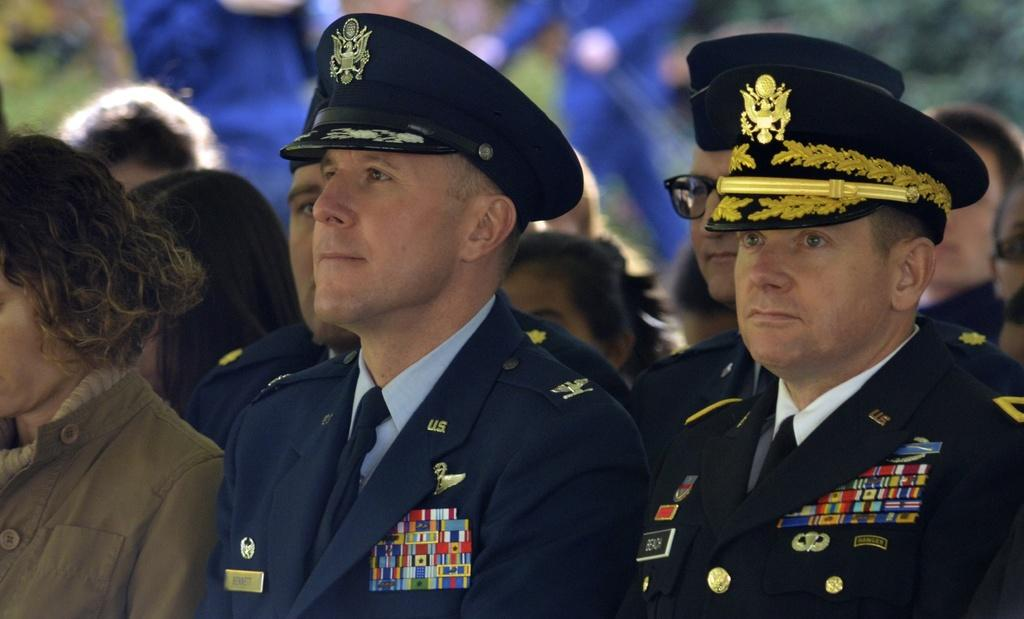Hat: (280, 11, 584, 224), (706, 67, 992, 233), (685, 35, 906, 150)
